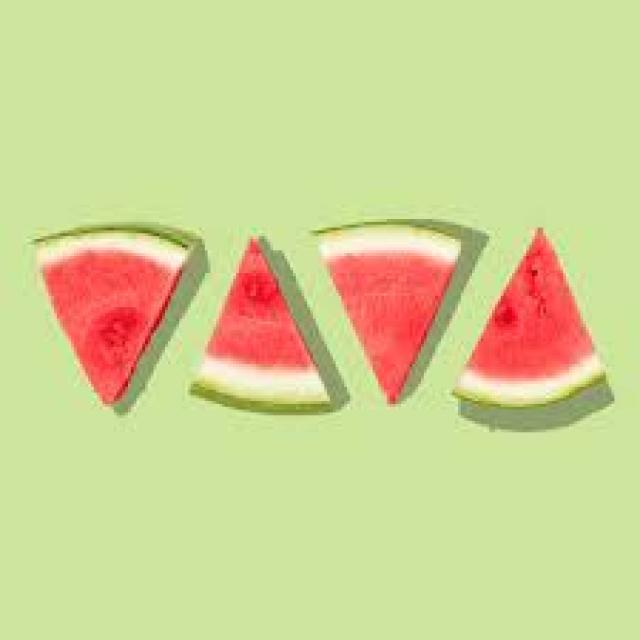watermelon: (302, 216, 486, 404), (29, 219, 208, 407), (449, 224, 609, 410), (188, 233, 347, 412)
